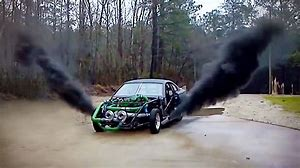smoke: (167, 18, 288, 119), (10, 26, 92, 114)
